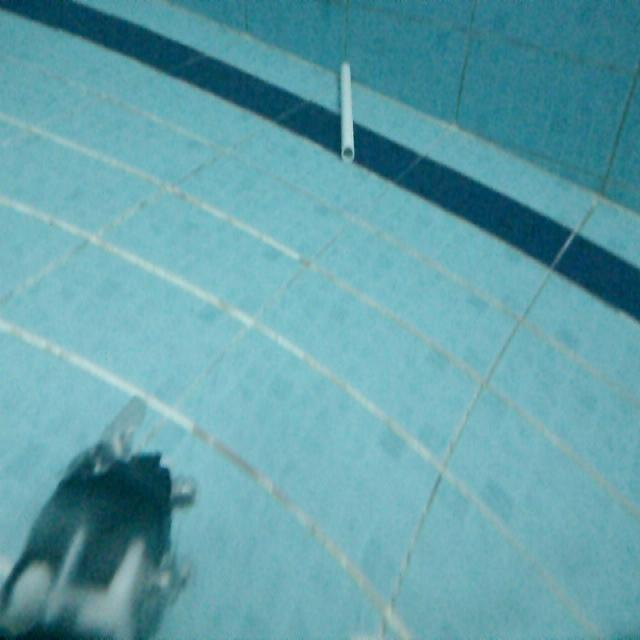Cube: (336, 57, 357, 163)
